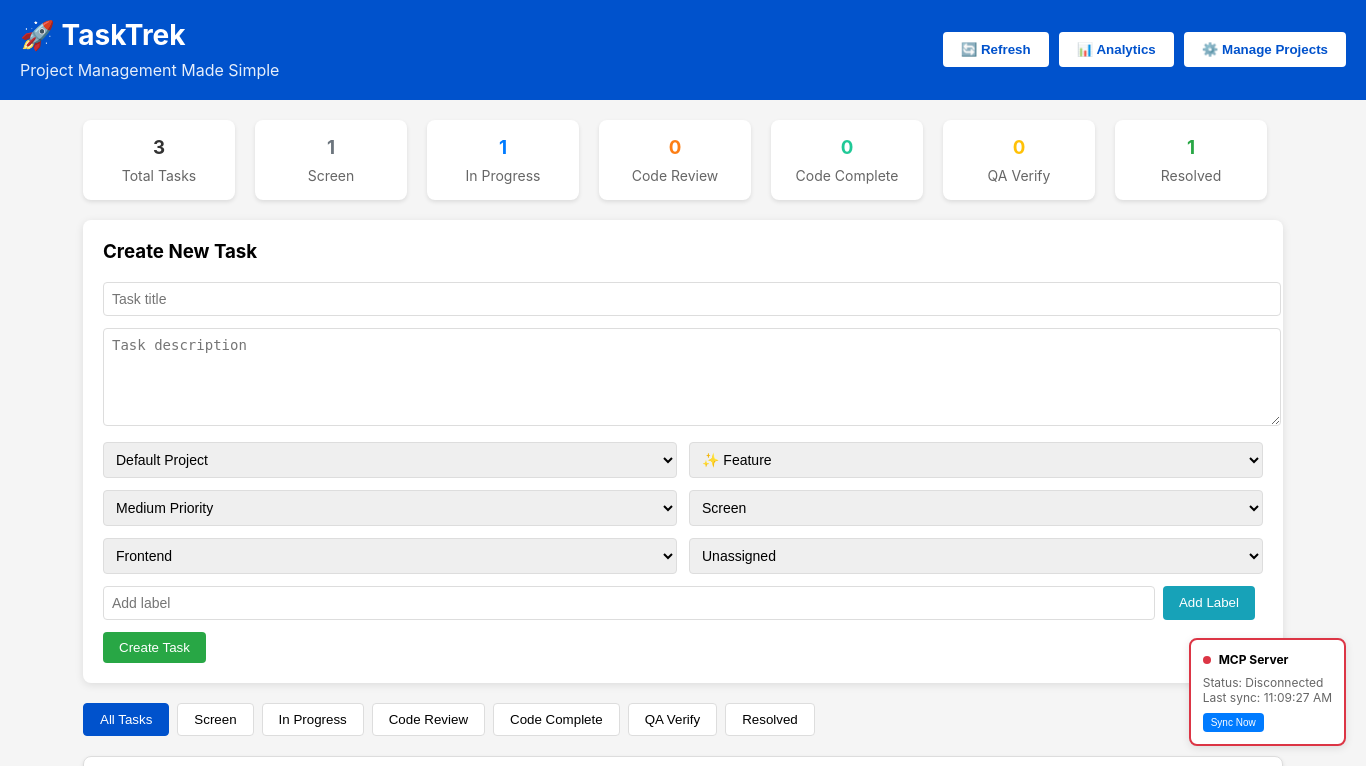
it: Dashboard Component › filters tasks correctly
The image size is (1366, 766).
// Filter by screen
Click the button "Screen" at x=215, y=719, box [177,703,254,736]
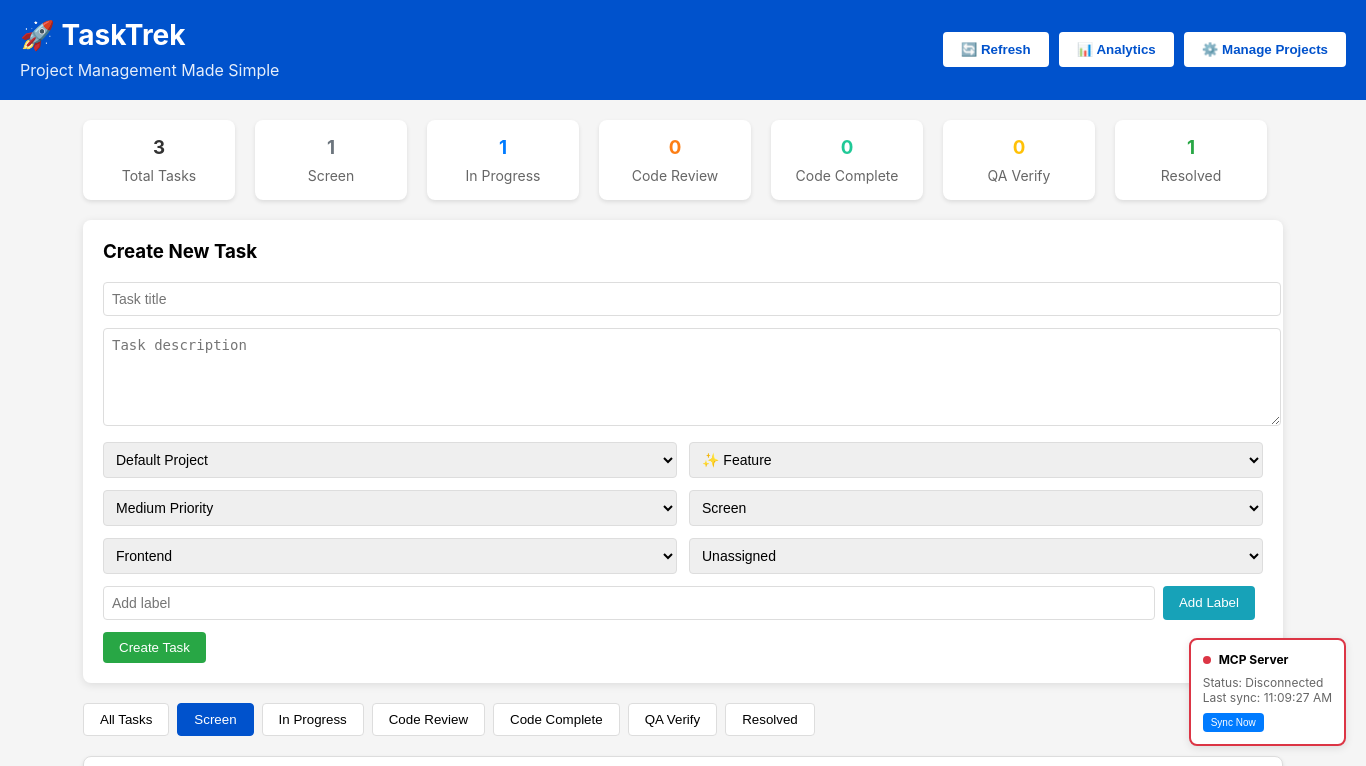
Expected: the text "Task 2" is not shown
Expected: the text "Task 3" is not shown
Click the button "In Progress" at x=313, y=719, box [262,703,364,736]
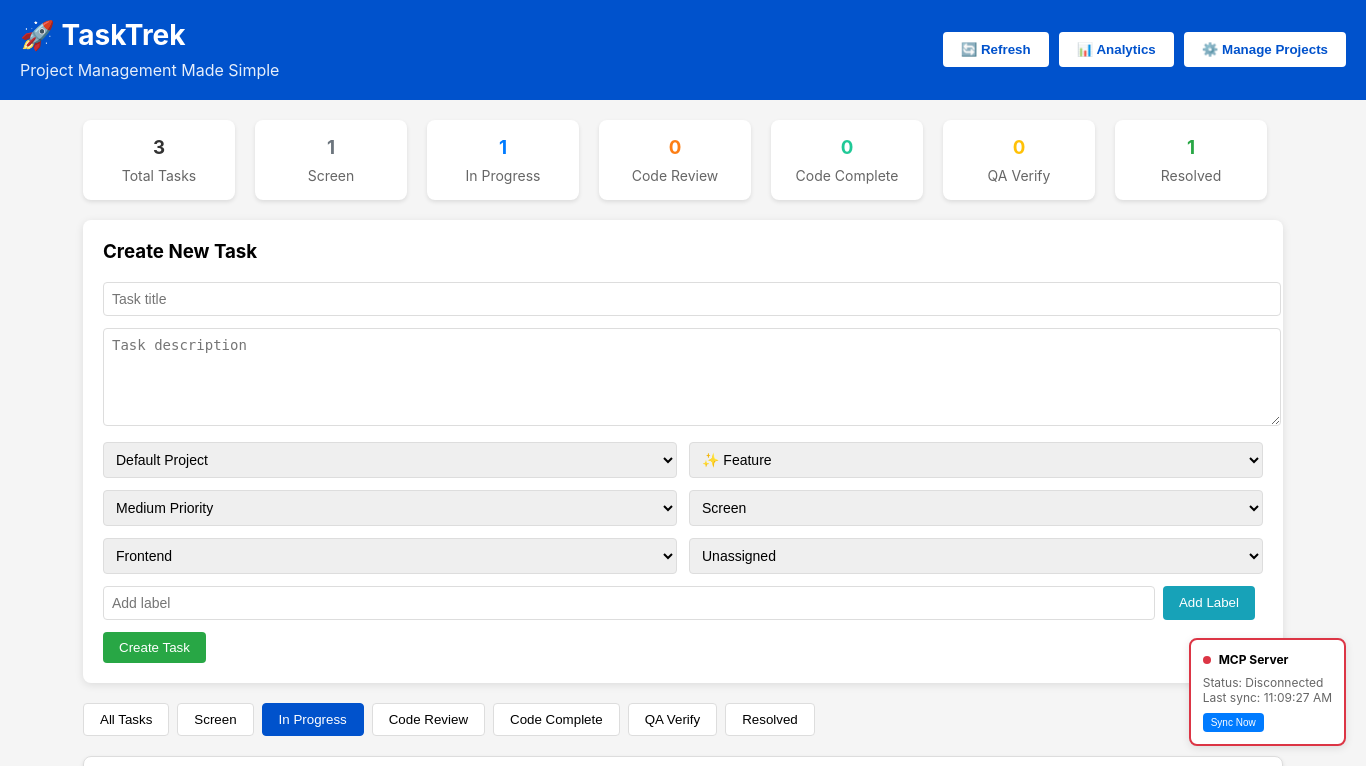
Expected: the text "Task 1" is not shown
Expected: the text "Task 3" is not shown
// Filter by resolved
Click the button "Resolved" at x=770, y=719, box [725,703,815,736]
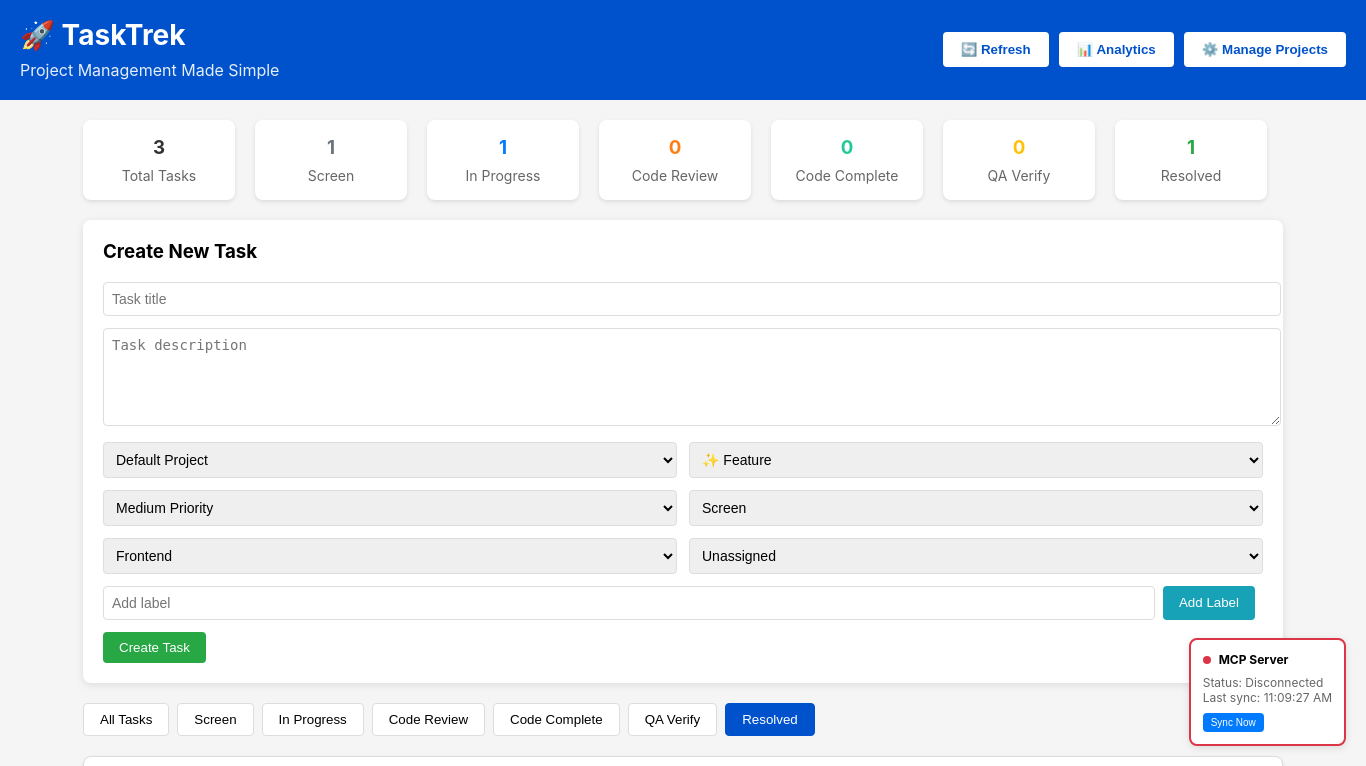
Expected: the text "Task 1" is not shown
Expected: the text "Task 2" is not shown
// Show all tasks
Click the button "All Tasks" at x=126, y=719, box [83,703,169,736]
(page scrolled)
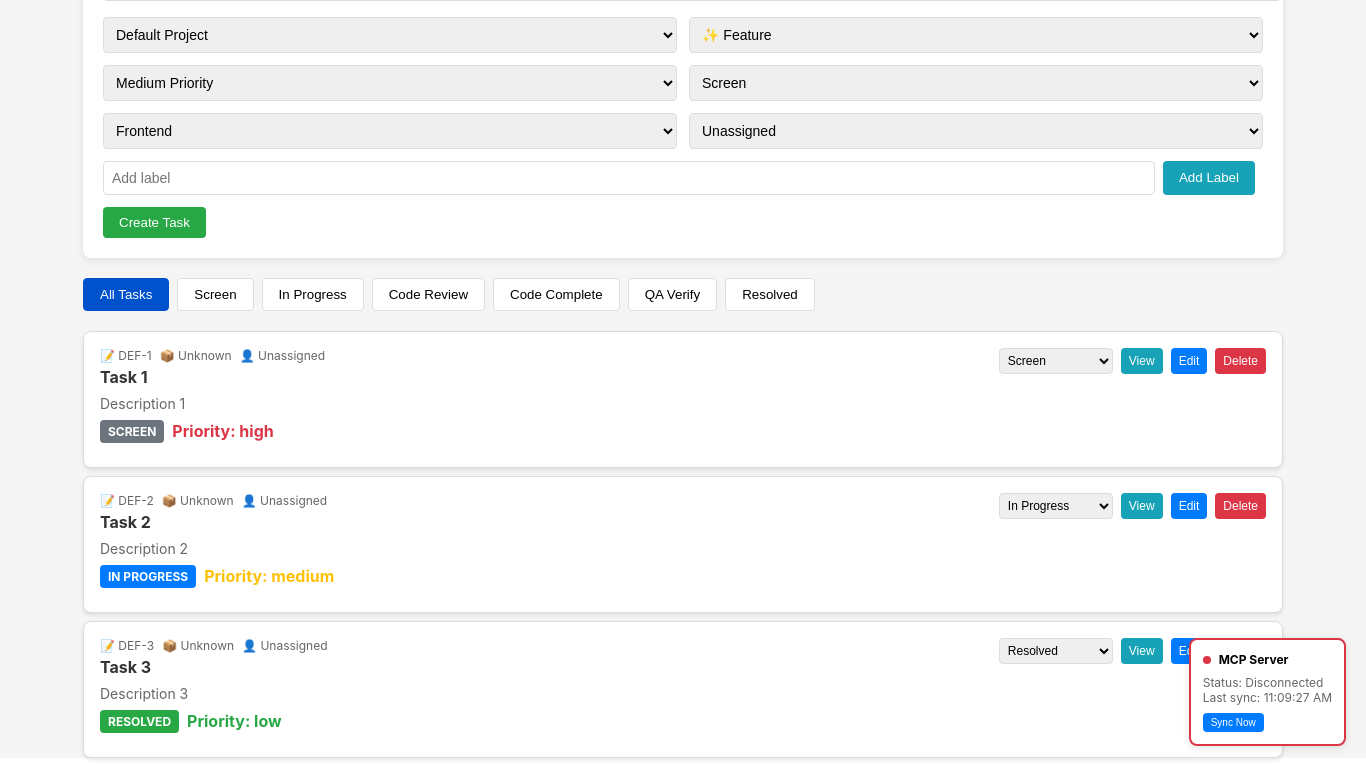
Result: the heading "Task 3" is shown at [100,657,151,677]
Result: the heading "Task 1" is shown at [100,367,148,387]
Result: the heading "Task 2" is shown at [100,512,151,532]
